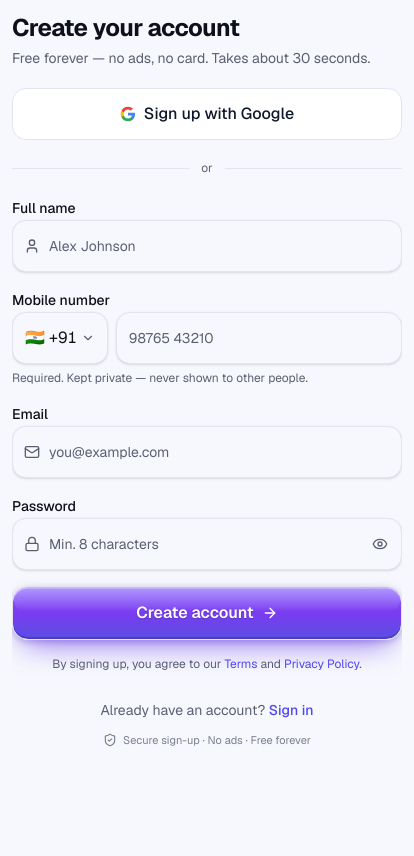
Test: SignupForm › REQUIRES a mobile number: without one nothing is sent and the field says so
This screenshot has width=414, height=856.
Type "Asha Rao" into the field labelled "Full name". click: (207, 246)
box: top-left (12, 220), bottom-right (402, 272)
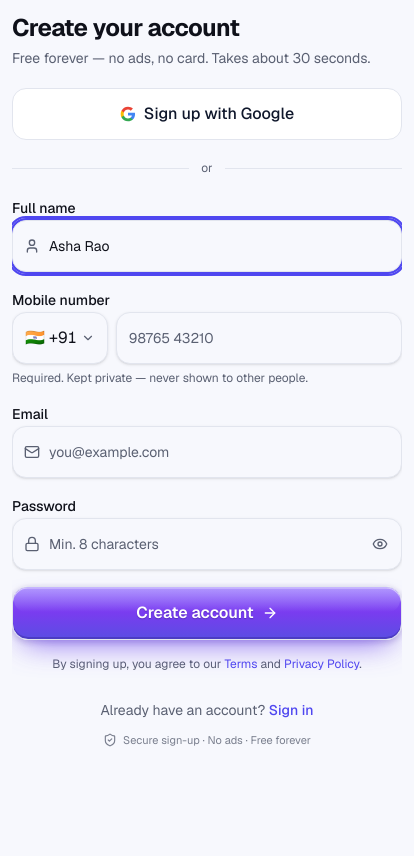
Type "asha@x.com" into the field labelled "Email". click: (207, 452)
box: top-left (12, 426), bottom-right (402, 478)
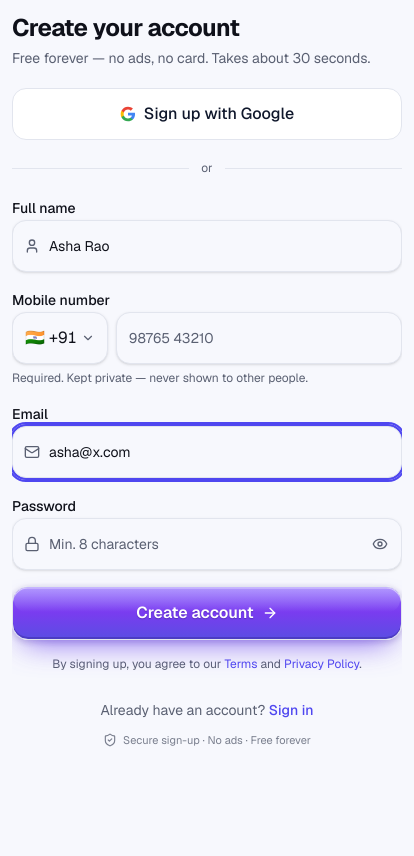
Type "Passw0rdX" into the password field labelled "Password". click: (207, 544)
box: top-left (12, 518), bottom-right (402, 570)
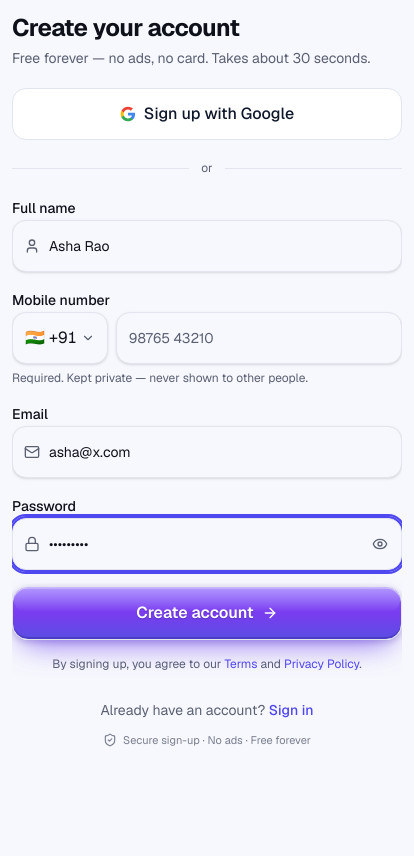
Click the button "Create account". click: (207, 613)
box: top-left (12, 586), bottom-right (402, 640)
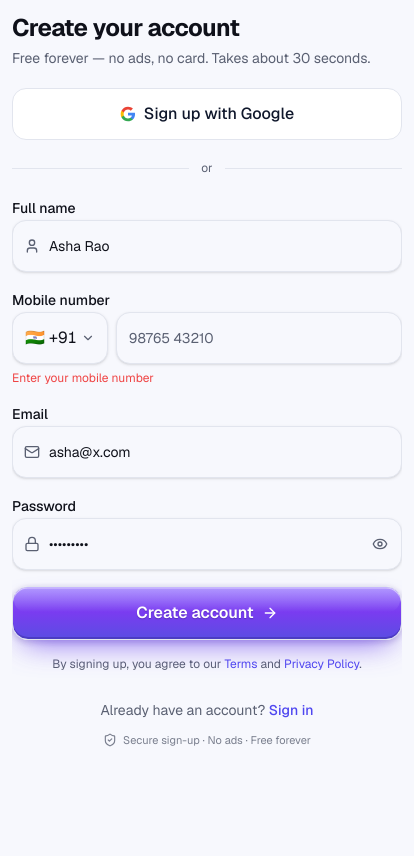
Expected: the text "Enter your mobile number" is shown, top-left (12, 370), bottom-right (154, 386)
